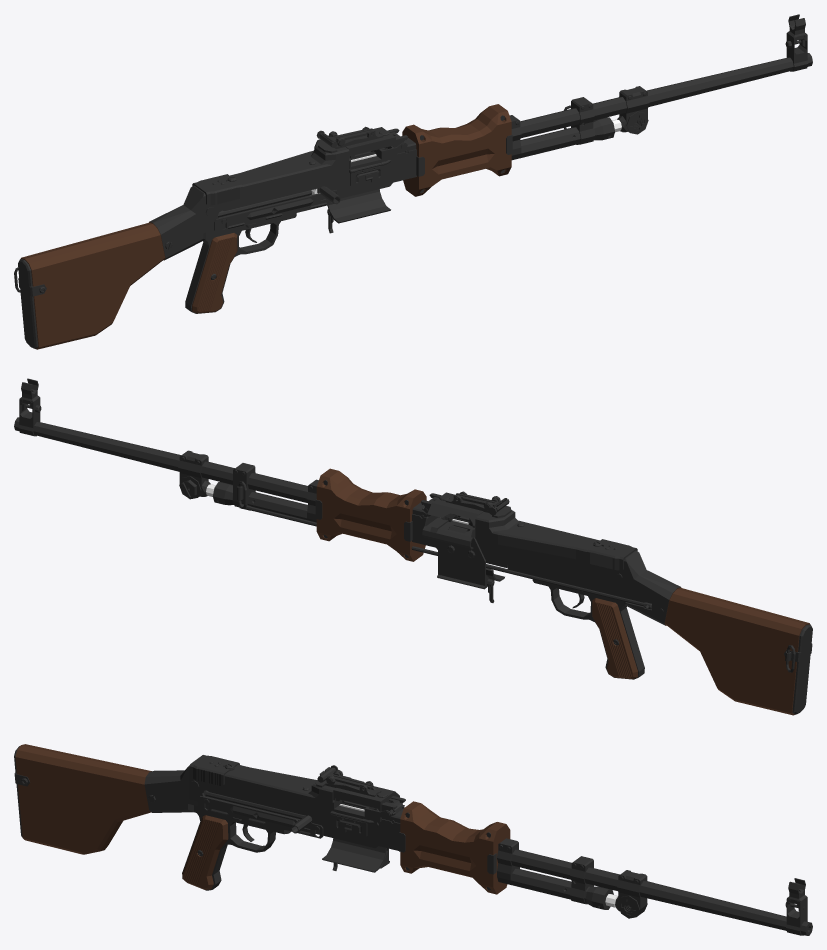
The model's file is rpd-44.glb.
3 renders of one model, top to bottom at view 1: azimuth 30°, elevation 25°; view 2: azimuth 150°, elevation 25°; view 3: azimuth 330°, elevation 25°, orthographic.
Visible parts, largest first — view 1: rpd-44_7 (×2), rpd top cover_8; view 2: rpd-44_7 (×2), rpd top cover_8; view 3: rpd-44_7 (×2), rpd top cover_8, rpd shutter _9.
Boxes of the visible parts, x1=… form: rpd-44_7 (×2): x1=14, y1=14, x2=812, y2=349; rpd top cover_8: x1=192, y1=126, x2=407, y2=205; rpd-44_7 (×2): x1=14, y1=378, x2=812, y2=715; rpd top cover_8: x1=421, y1=491, x2=637, y2=570; rpd-44_7 (×2): x1=14, y1=744, x2=812, y2=935; rpd top cover_8: x1=189, y1=755, x2=405, y2=817; rpd shutter _9: x1=331, y1=811, x2=367, y2=837.
Size of the model in its own units: 10.69 by 1.94 by 0.8645.
